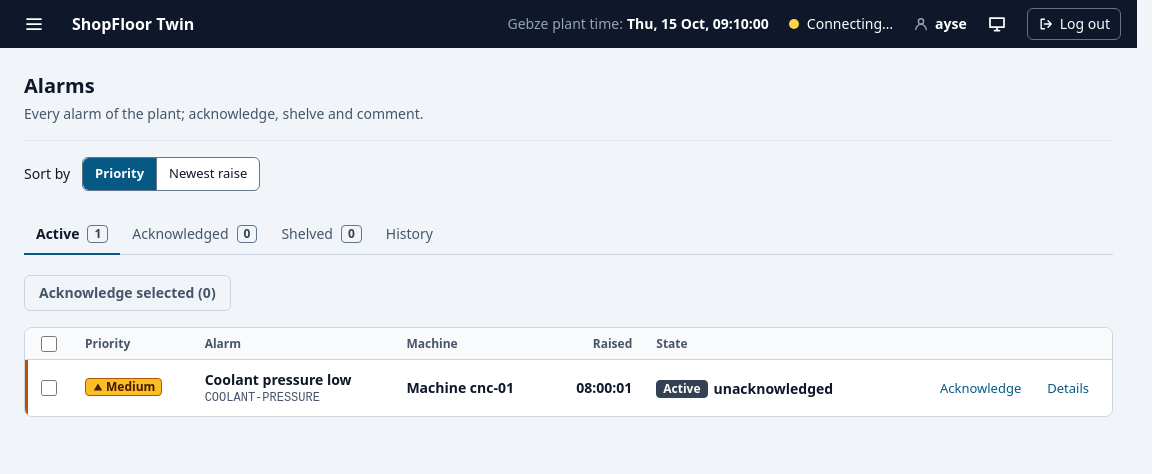
Test: alarm list › explains a 403 on acknowledge
Click the button "Acknowledge".
click(981, 388)  # box [929,374,1032,402]
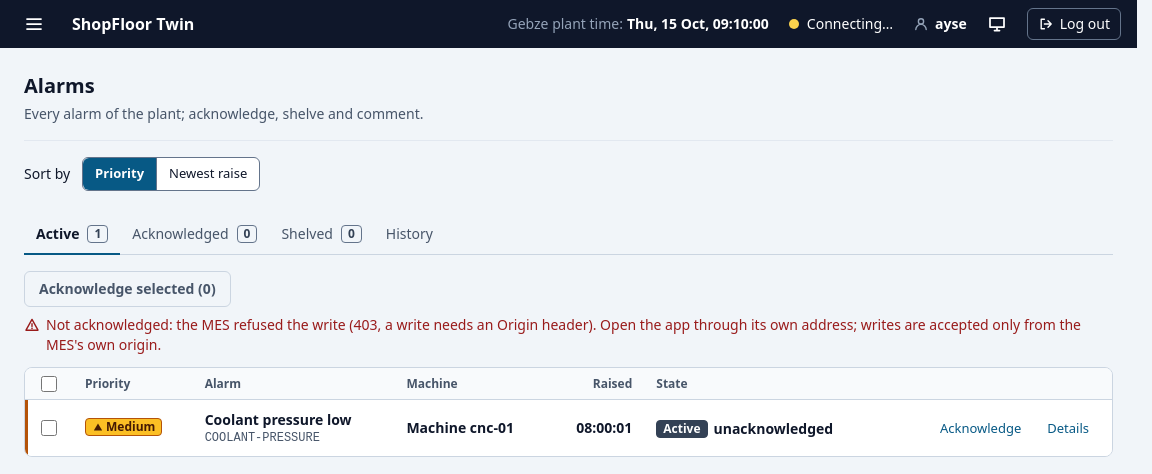
expect the message with test id "alarm-list-message" shows "Open the app through its own address": met, box [46,315,1081,354]
expect the message with test id "alarm-list-message" shows "Not acknowledged": met, box [46,315,1081,354]
